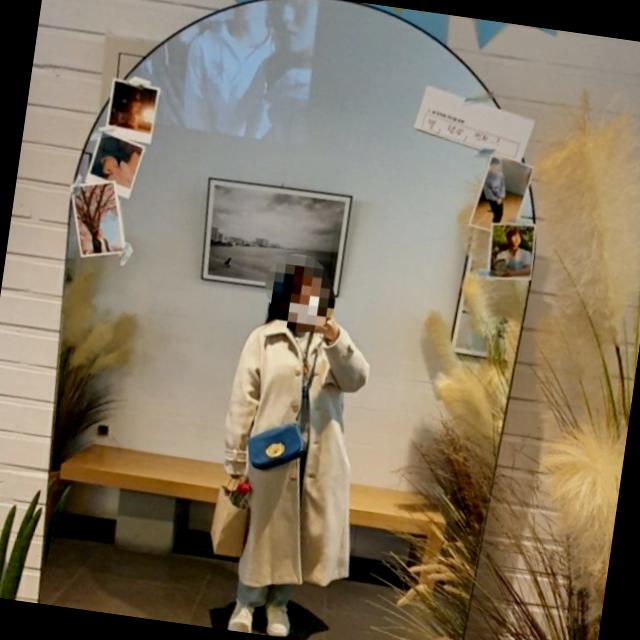coat: (199, 306, 384, 600)
